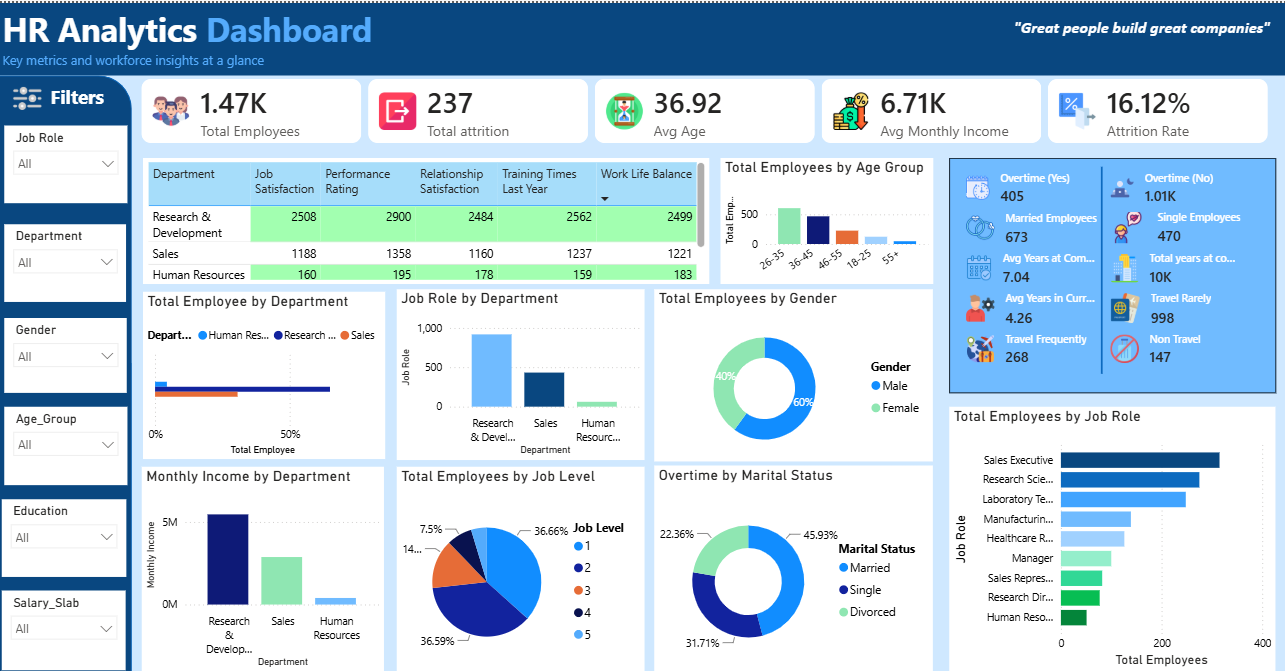

The dashboard page shown, as its layout file describes it:
{"tool":"powerbi","page":{"name":"Page 1","canvas":[1475,780],"ordinal":0},"visuals":[{"type":"shape","box":[0,0,1475.7,82.9],"z":0},{"type":"shape","box":[0,82.9,152.9,717.1],"z":1000},{"type":"textbox","box":[0,0,442.9,82.9],"z":2000},{"type":"slicer","fields":{"Values":["hr job_details.department"]},"box":[7.1,252.9,139.4,89.2],"z":3000},{"type":"slicer","fields":{"Values":["hr job_details.job_role"]},"box":[7.1,140,140.8,89.2],"z":4000},{"type":"slicer","fields":{"Values":["hr employees.gender"]},"box":[7.1,360,140,85.7],"z":5000},{"type":"slicer","fields":{"Values":["hr employees.age_group"]},"box":[7.1,461.4,140.7,89.3],"z":6000},{"type":"slicer","fields":{"Values":["hr employees.education"]},"box":[4.4,566.7,142.2,89.2],"z":7000},{"type":"slicer","fields":{"Values":["hr compensation.salary_slab"]},"box":[4.5,670.9,141.8,90.9],"z":8000},{"type":"clusteredBarChart","fields":{"Y":["hr employees.Total_Emp"],"Series":["hr job_details.department"]},"box":[165.7,330,277.1,191.4],"z":9000},{"type":"donutChart","fields":{"Category":["hr employees.gender"],"Y":["CountNonNull(hr employees.emp_id)"]},"box":[750,326.7,318.3,196.7],"z":10000},{"type":"clusteredColumnChart","fields":{"Category":["hr employees.age_group"],"Y":["hr employees.Total Employees"]},"box":[825.7,177.1,242.9,144.3],"z":11000},{"type":"columnChart","fields":{"Y":["Sum(hr compensation.monthly_income)"],"Category":["hr job_details.department"]},"box":[165,530,276.7,233.3],"z":12000},{"type":"pieChart","fields":{"Y":["CountNonNull(hr job_details.emp_id)"],"Category":["hr job_details.job_level"]},"box":[455,530,283.3,233.3],"z":13000},{"type":"donutChart","fields":{"Y":["CountNonNull(hr job_details.over_time)"],"Category":["hr employees.marital_status"]},"box":[750,528.3,318.3,235],"z":14000},{"type":"clusteredColumnChart","fields":{"Category":["hr job_details.department"],"Y":["CountNonNull(hr job_details.job_role)"]},"box":[455,326.7,283.3,195],"z":15000},{"type":"tableEx","fields":{"Values":["hr job_details.department","Sum(hr job_satisfaction.job_satisfaction)","Sum(hr job_satisfaction.performance_rating)","Sum(hr job_satisfaction.relationship_satisfaction)","Sum(hr job_satisfaction.training_times_last_year)","Sum(hr job_satisfaction.work_life_balance)"]},"box":[165.7,177.1,647.1,144.3],"z":16000},{"type":"image","box":[7.5,91.7,53.3,35],"z":17000},{"type":"textbox","box":[33.8,87.7,112.3,43.1],"z":18000},{"type":"cardVisual","fields":{"Data":["hr employees.Total Employees","Sum(hr employees.attrition_count)","hr employees.Avg Age","hr compensation.Avg Monthly Income","hr employees.Attrition Rate"]},"box":[147.1,70,1325.7,107.1],"z":19000},{"type":"textbox","box":[1155.7,11.4,304.3,58.6],"z":20000},{"type":"cardVisual","fields":{"Data":["hr job_details.Overtime Yes","hr job_details.Overtime No","hr employees.Married Employees","hr employees.Single Employees","hr job_details.Avg Years at Company","Sum(hr job_details.years_at_company)","hr job_details.Avg Years in Current Role","hr job_details.Travel Rarely","hr job_details.Travel Frequently","hr job_details.Non Travel"]},"box":[1086.7,176.7,373.3,268.9],"z":21000},{"type":"shape","box":[1111.1,187.8,300,236.7],"z":22000},{"type":"barChart","fields":{"Category":["hr job_details.job_role"],"Y":["Count(hr employees.employee_number)"]},"box":[1087,461,373,302],"z":23000}]}

Visuals, with their boxes in screenshot pixels (x1, y1, x2, y2), scaled from the page's 1475x780 canvas onto the 1285x671 screenshot:
shape: crop(0, 0, 1284, 71)
shape: crop(0, 71, 133, 670)
textbox: crop(0, 0, 386, 71)
slicer - hr job_details.department: crop(6, 218, 128, 294)
slicer - hr job_details.job_role: crop(6, 120, 129, 197)
slicer - hr employees.gender: crop(6, 310, 128, 383)
slicer - hr employees.age_group: crop(6, 397, 129, 474)
slicer - hr employees.education: crop(4, 488, 128, 564)
slicer - hr compensation.salary_slab: crop(4, 577, 127, 655)
clusteredBarChart - hr employees.Total_Emp x hr job_details.department: crop(144, 284, 386, 449)
donutChart - hr employees.gender x CountNonNull(hr employees.emp_id): crop(653, 281, 931, 450)
clusteredColumnChart - hr employees.age_group x hr employees.Total Employees: crop(719, 152, 931, 276)
columnChart - Sum(hr compensation.monthly_income) x hr job_details.department: crop(144, 456, 385, 657)
pieChart - CountNonNull(hr job_details.emp_id) x hr job_details.job_level: crop(396, 456, 643, 657)
donutChart - CountNonNull(hr job_details.over_time) x hr employees.marital_status: crop(653, 454, 931, 657)
clusteredColumnChart - hr job_details.department x CountNonNull(hr job_details.job_role): crop(396, 281, 643, 449)
tableEx - hr job_details.department x Sum(hr job_satisfaction.job_satisfaction): crop(144, 152, 708, 276)
image: crop(7, 79, 53, 109)
textbox: crop(29, 75, 127, 113)
cardVisual - hr employees.Total Employees x Sum(hr employees.attrition_count): crop(128, 60, 1283, 152)
textbox: crop(1007, 10, 1272, 60)
cardVisual - hr job_details.Overtime Yes x hr job_details.Overtime No: crop(947, 152, 1272, 383)
shape: crop(968, 162, 1229, 365)
barChart - hr job_details.job_role x Count(hr employees.employee_number): crop(947, 397, 1272, 656)
